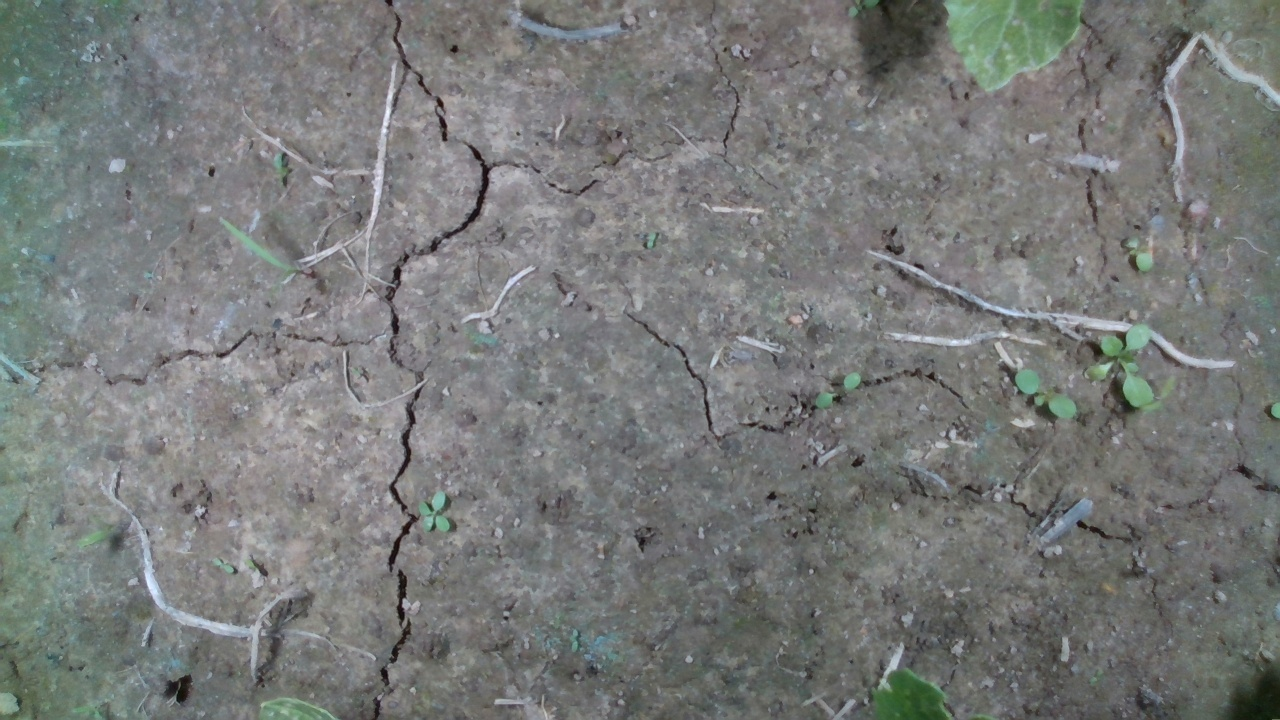weed: (1084, 323, 1154, 409), (1013, 367, 1077, 420), (813, 369, 862, 409), (416, 491, 450, 533), (1120, 237, 1155, 272), (210, 557, 235, 575)
